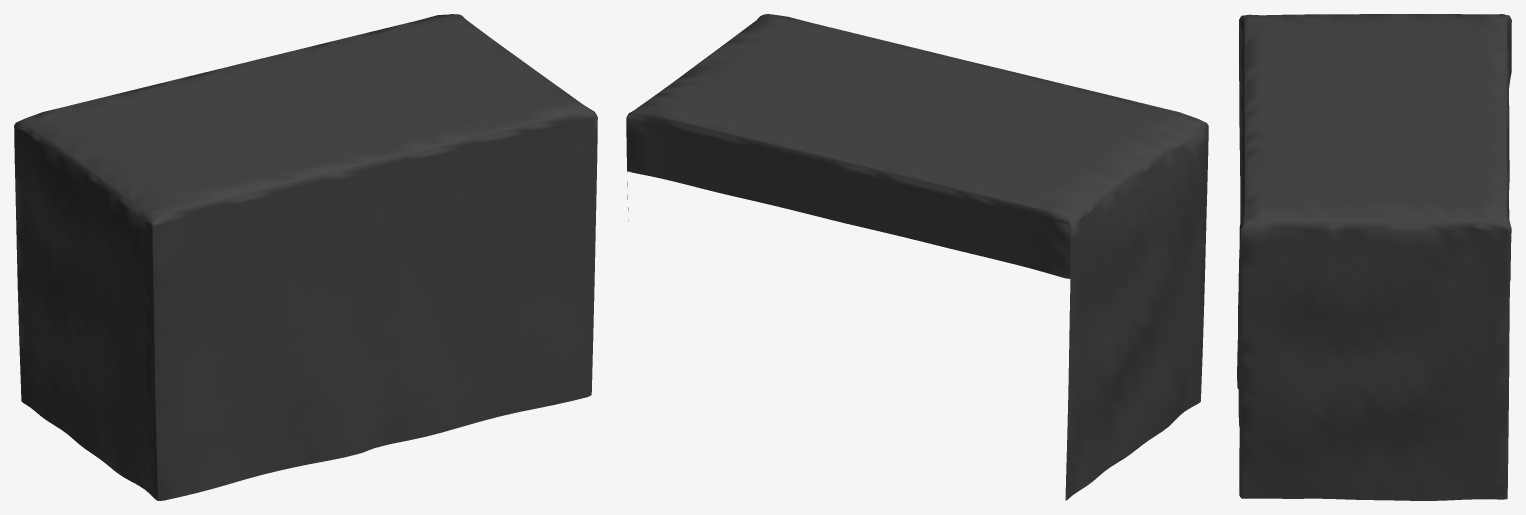
Rendered from fitted-4ft-3-24.glb.
The picture shows the model from 3 angles, left to right: view 1: azimuth 30°, elevation 25°; view 2: azimuth 150°, elevation 25°; view 3: azimuth 270°, elevation 25°; orthographic projection. The views are drawn at different scales.
Parts seen in each view (by area): view 1: geometry_0; view 2: geometry_0; view 3: geometry_0.
Part boxes in pixels (box(x1,y1,x2,y2)): geometry_0: box(14, 14, 597, 500); geometry_0: box(626, 14, 1208, 500); geometry_0: box(1237, 14, 1511, 500).
Size of the model in its own units: 1.28 by 0.7856 by 0.6907.
Materials: 1 (1 with a texture image).
